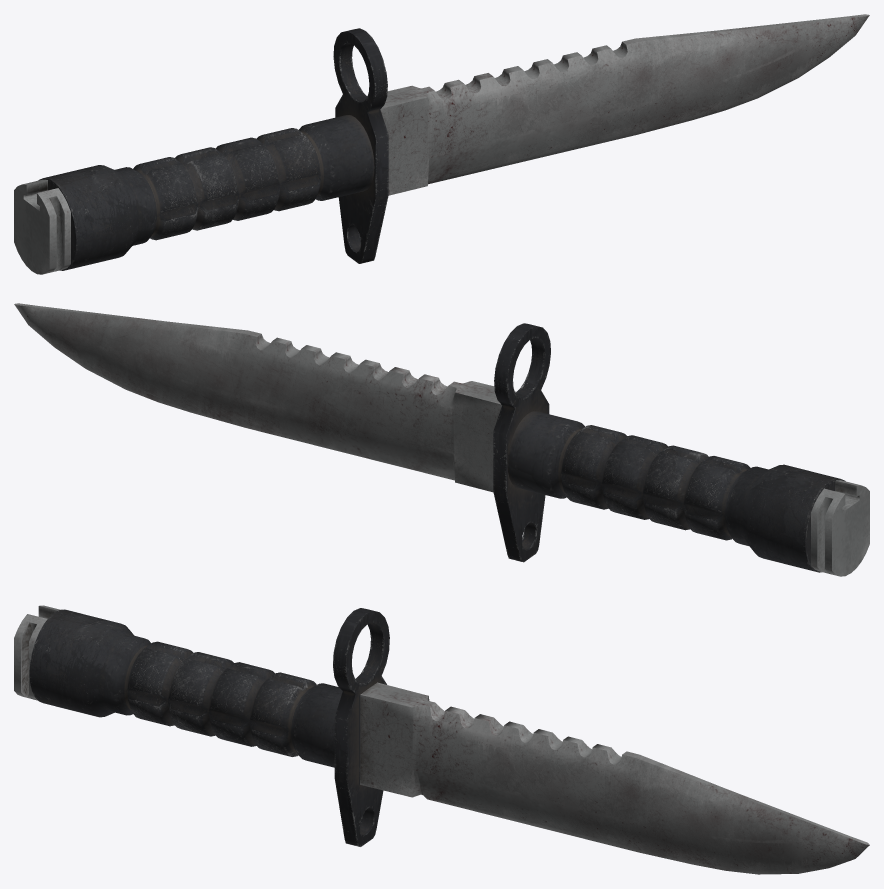
File: m9_bayonet_knife.glb
3 views of the same model, one above another, from view 1: azimuth 30°, elevation 25°; view 2: azimuth 150°, elevation 25°; view 3: azimuth 330°, elevation 25° (orthographic).
Parts seen in each view (by area): view 1: M9; view 2: M9; view 3: M9.
Boxes of the visible parts, x1,y1,x2,y2 form: M9: (14, 14, 869, 274); M9: (14, 303, 869, 576); M9: (14, 605, 869, 874).
Size of the model in its own units: 3.07 by 0.7955 by 0.3062.
Materials: 1 (1 with a texture image).
